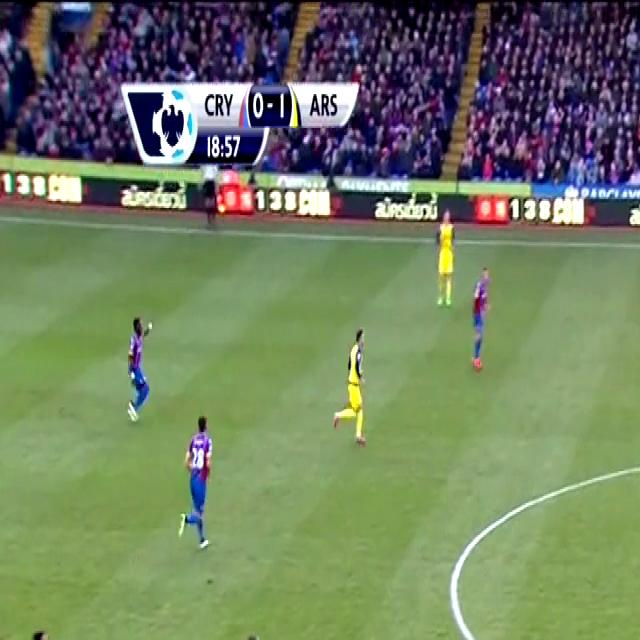soccer-player: (166, 407, 226, 557), (326, 325, 380, 454), (116, 314, 164, 436), (460, 264, 504, 376), (432, 202, 460, 314), (13, 622, 76, 640), (215, 627, 298, 640)
